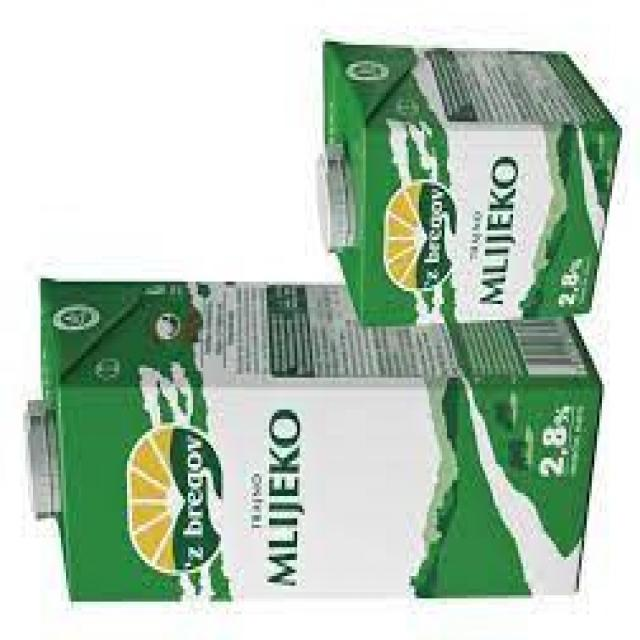non_white_jug: (19, 272, 605, 608), (312, 35, 626, 331)
